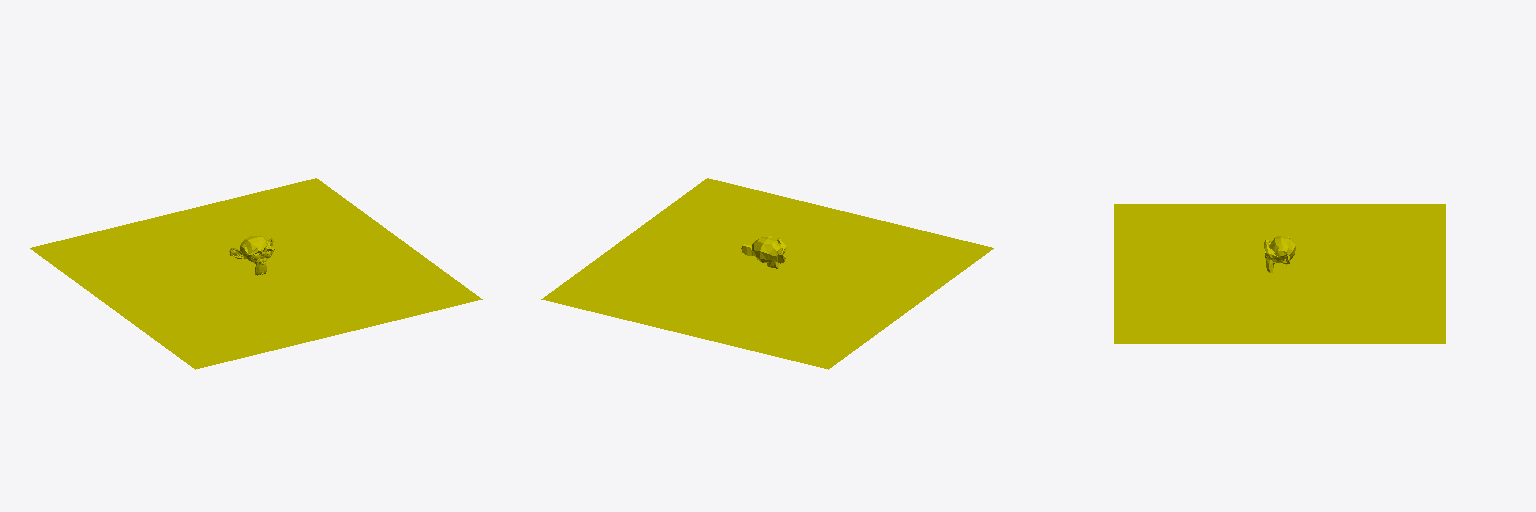
Rendered from monkey.obj.
The picture shows the model from 3 angles: view 1: azimuth 30°, elevation 25°; view 2: azimuth 150°, elevation 25°; view 3: azimuth 270°, elevation 25°; orthographic projection.
Visible parts, largest first — view 1: Plane, Suzanne; view 2: Plane, Suzanne; view 3: Plane, Suzanne.
Part boxes in pixels (x1,y1,x2,y2): Plane: (30,178,482,369); Suzanne: (229,236,274,275); Plane: (541,178,993,369); Suzanne: (741,236,786,268); Plane: (1114,204,1445,343); Suzanne: (1264,236,1295,272).
Size of the model in its own units: 17.89 by 2.12 by 17.89.